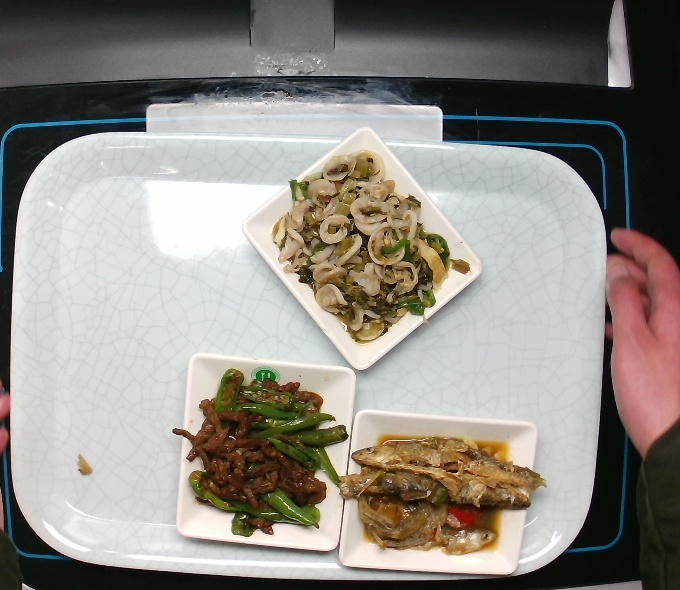wcq-QingJiaoNiuRou: (178, 360, 349, 544)
wcq-XiaoXiYu: (332, 429, 551, 560)
wcq-XueCaiYouYu: (271, 147, 480, 348)
